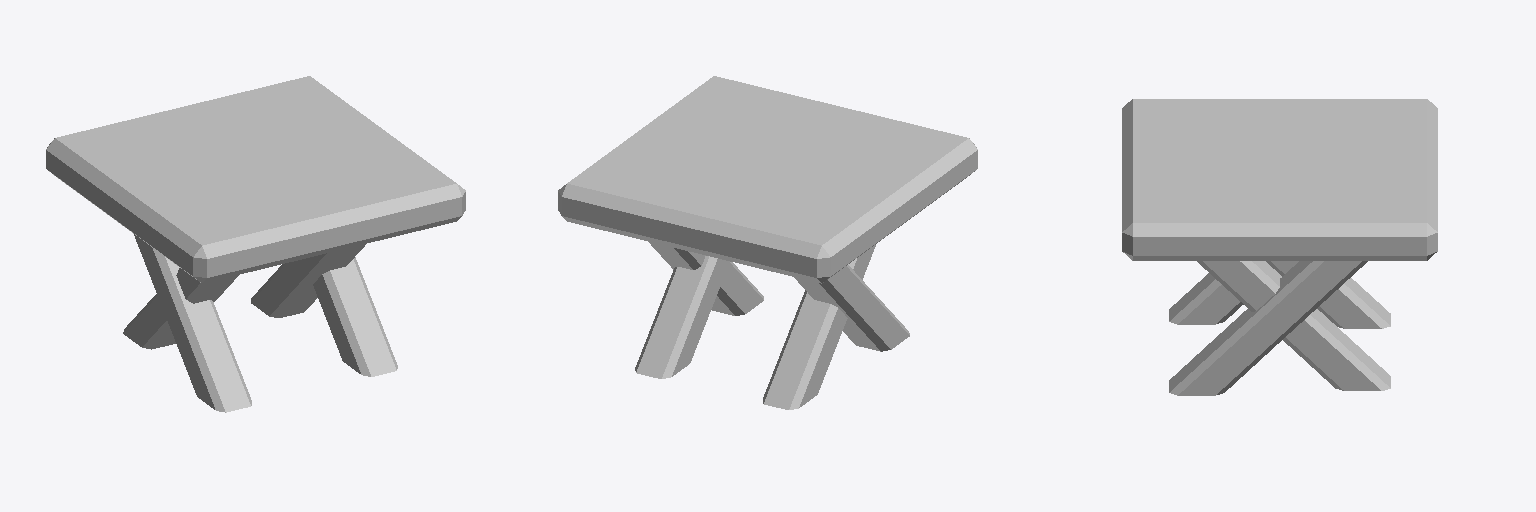
Rendered from table_square_A.obj.
3 views of the same model, side by side, from view 1: azimuth 30°, elevation 25°; view 2: azimuth 150°, elevation 25°; view 3: azimuth 270°, elevation 25° (orthographic).
Visible parts, largest first — view 1: table_square_A; view 2: table_square_A; view 3: table_square_A.
Boxes of the visible parts, x1,y1,x2,y2 form: table_square_A: [46, 76, 465, 412]; table_square_A: [558, 76, 977, 409]; table_square_A: [1122, 99, 1437, 395].
Size of the model in its own units: 1.5 by 1 by 1.5.